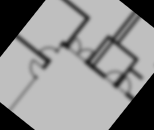door: (23, 57, 46, 80), (38, 41, 59, 62), (103, 65, 124, 86), (116, 76, 136, 96)
double door: (67, 37, 94, 62)
wall: (95, 13, 141, 69), (16, 34, 56, 68), (104, 32, 143, 66), (63, 14, 92, 49), (108, 10, 137, 45), (52, 0, 92, 22), (85, 36, 111, 65), (90, 39, 115, 68), (83, 58, 109, 80)
